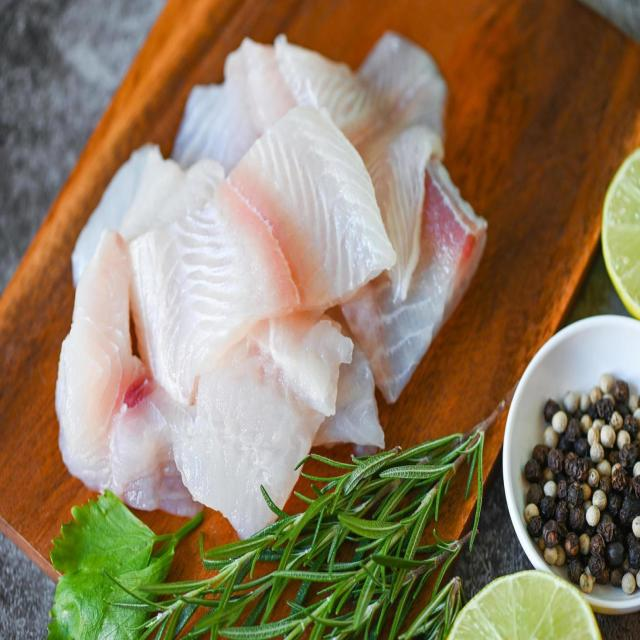Black pepper: (535, 461, 588, 537)
Catfish: (54, 29, 490, 493), (128, 106, 392, 407)
Coriander: (41, 488, 212, 640)
Rosemary: (125, 459, 512, 640)
lemon: (432, 565, 602, 640), (597, 152, 640, 317)
